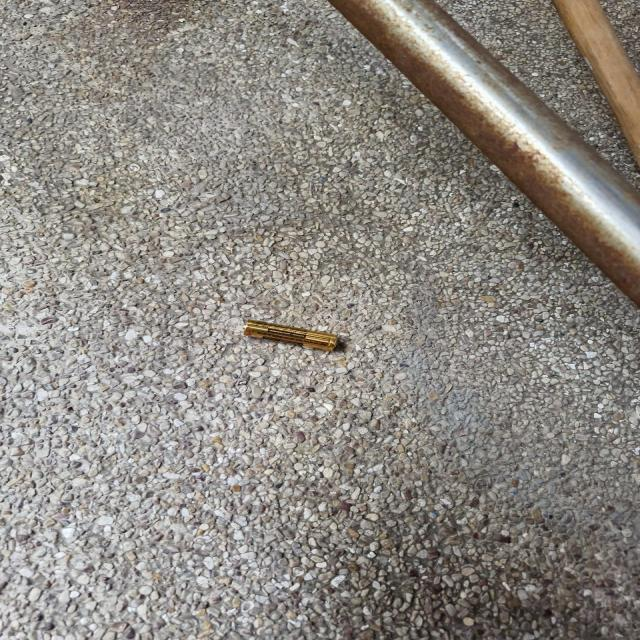battery: (240, 317, 341, 353)
